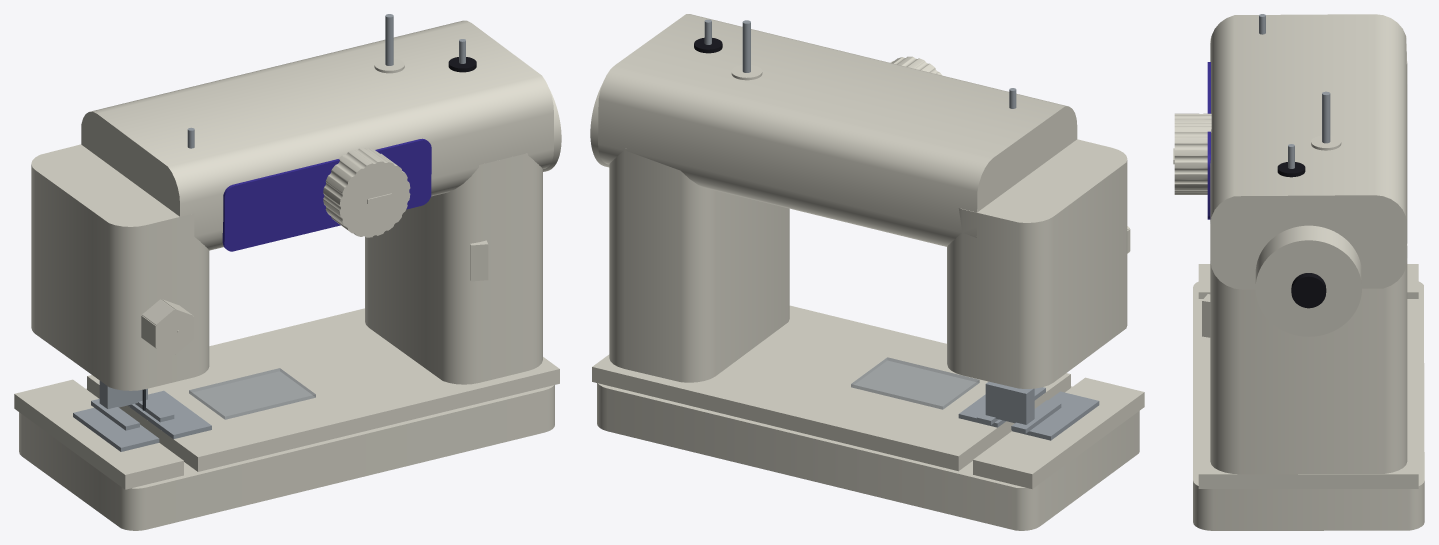
3 views of the same model, side by side, from view 1: azimuth 30°, elevation 25°; view 2: azimuth 150°, elevation 25°; view 3: azimuth 270°, elevation 25° (orthographic). The views are drawn at different scales.
Parts seen in each view (by area): view 1: /Asset/Links/machine_frame/Visuals/top_arm/Geom/mesh, /Asset/Links/machine_frame/Visuals/needle_head/Geom/mesh, /Asset/Links/machine_frame/Visuals/right_pillar/Geom/mesh, /Asset/Links/machine_frame/Visuals/right_deck/Geom, /Asset/Links/machine_frame/Visuals/base_plinth/Geom/mesh, /Asset/Links/machine_frame/Visuals/stitch_chart_panel/Geom/m, /Asset/Links/machine_frame/Visuals/left_deck/Geom, /Asset/Links/stitch_selector/Visuals/selector_knob/Geom/mesh, /Asset/Links/machine_frame/Visuals/bobbin_access_cover/Geom, /Asset/Links/thread_tension_dial/Visuals/tension_knob/Geom/m, /Asset/Links/machine_frame/Visuals/needle_plate_left/Geom, /Asset/Links/machine_frame/Visuals/needle_plate_right/Geom (+2 smaller); view 2: /Asset/Links/machine_frame/Visuals/top_arm/Geom/mesh, /Asset/Links/machine_frame/Visuals/needle_head/Geom/mesh, /Asset/Links/machine_frame/Visuals/right_pillar/Geom/mesh, /Asset/Links/machine_frame/Visuals/right_deck/Geom, /Asset/Links/machine_frame/Visuals/base_plinth/Geom/mesh, /Asset/Links/machine_frame/Visuals/left_deck/Geom, /Asset/Links/machine_frame/Visuals/bobbin_access_cover/Geom, /Asset/Links/presser_foot/Visuals/presser_ankle/Geom, /Asset/Links/machine_frame/Visuals/needle_plate_left/Geom; view 3: /Asset/Links/machine_frame/Visuals/top_arm/Geom/mesh, /Asset/Links/machine_frame/Visuals/right_pillar/Geom/mesh, /Asset/Links/machine_frame/Visuals/base_plinth/Geom/mesh, /Asset/Links/handwheel/Visuals/handwheel_disc/Geom, /Asset/Links/machine_frame/Visuals/right_deck/Geom, /Asset/Links/stitch_selector/Visuals/selector_knob/Geom/mesh, /Asset/Links/handwheel/Visuals/handwheel_hub/Geom, /Asset/Links/machine_frame/Visuals/left_deck/Geom, /Asset/Links/machine_frame/Visuals/stitch_chart_panel/Geom/m, /Asset/Links/machine_frame/Visuals/spool_pin/Geom, /Asset/Links/machine_frame/Visuals/reverse_feed_paddle/Geom, /Asset/Links/machine_frame/Visuals/spool_pin_base/Geom (+1 smaller).
Boxes of the visible parts, <box> form: /Asset/Links/machine_frame/Visuals/top_arm/Geom/mesh: <box>81,20,553,250</box>; /Asset/Links/machine_frame/Visuals/needle_head/Geom/mesh: <box>31,144,209,390</box>; /Asset/Links/machine_frame/Visuals/right_pillar/Geom/mesh: <box>365,153,542,384</box>; /Asset/Links/machine_frame/Visuals/right_deck/Geom: <box>87,308,559,471</box>; /Asset/Links/machine_frame/Visuals/base_plinth/Geom/mesh: <box>19,385,554,530</box>; /Asset/Links/machine_frame/Visuals/stitch_chart_panel/Geom/m: <box>222,138,431,251</box>; /Asset/Links/machine_frame/Visuals/left_deck/Geom: <box>14,379,183,489</box>; /Asset/Links/stitch_selector/Visuals/selector_knob/Geom/mesh: <box>323,148,410,237</box>; /Asset/Links/machine_frame/Visuals/bobbin_access_cover/Geom: <box>189,368,315,419</box>; /Asset/Links/thread_tension_dial/Visuals/tension_knob/Geom/m: <box>141,299,193,354</box>; /Asset/Links/machine_frame/Visuals/needle_plate_left/Geom: <box>73,407,159,451</box>; /Asset/Links/machine_frame/Visuals/needle_plate_right/Geom: <box>127,390,211,439</box>; /Asset/Links/machine_frame/Visuals/top_arm/Geom/mesh: <box>598,14,1077,246</box>; /Asset/Links/machine_frame/Visuals/needle_head/Geom/mesh: <box>947,139,1127,388</box>; /Asset/Links/machine_frame/Visuals/right_pillar/Geom/mesh: <box>609,148,789,382</box>; /Asset/Links/machine_frame/Visuals/right_deck/Geom: <box>592,305,1070,471</box>; /Asset/Links/machine_frame/Visuals/base_plinth/Geom/mesh: <box>597,383,1139,530</box>; /Asset/Links/machine_frame/Visuals/left_deck/Geom: <box>973,377,1144,488</box>; /Asset/Links/machine_frame/Visuals/bobbin_access_cover/Geom: <box>851,357,979,409</box>; /Asset/Links/presser_foot/Visuals/presser_ankle/Geom: <box>985,381,1034,424</box>; /Asset/Links/machine_frame/Visuals/needle_plate_left/Geom: <box>1012,391,1099,440</box>; /Asset/Links/machine_frame/Visuals/top_arm/Geom/mesh: <box>1210,14,1407,289</box>; /Asset/Links/machine_frame/Visuals/right_pillar/Geom/mesh: <box>1210,244,1407,474</box>; /Asset/Links/machine_frame/Visuals/base_plinth/Geom/mesh: <box>1193,281,1424,530</box>; /Asset/Links/handwheel/Visuals/handwheel_disc/Geom: <box>1255,225,1361,336</box>; /Asset/Links/machine_frame/Visuals/right_deck/Geom: <box>1198,299,1418,488</box>; /Asset/Links/stitch_selector/Visuals/selector_knob/Geom/mesh: <box>1173,113,1211,194</box>; /Asset/Links/handwheel/Visuals/handwheel_hub/Geom: <box>1291,273,1326,308</box>; /Asset/Links/machine_frame/Visuals/left_deck/Geom: <box>1198,264,1418,298</box>; /Asset/Links/machine_frame/Visuals/stitch_chart_panel/Geom/m: <box>1207,62,1210,219</box>; /Asset/Links/machine_frame/Visuals/spool_pin/Geom: <box>1322,91,1330,143</box>; /Asset/Links/machine_frame/Visuals/reverse_feed_paddle/Geom: <box>1202,294,1210,337</box>; /Asset/Links/machine_frame/Visuals/spool_pin_base/Geom: <box>1311,135,1341,150</box>.
Size of the model in its own units: 0.468 by 0.368 by 0.217.
